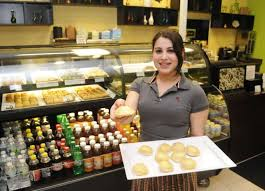middle_eastern_Female: (153, 34, 185, 76)
